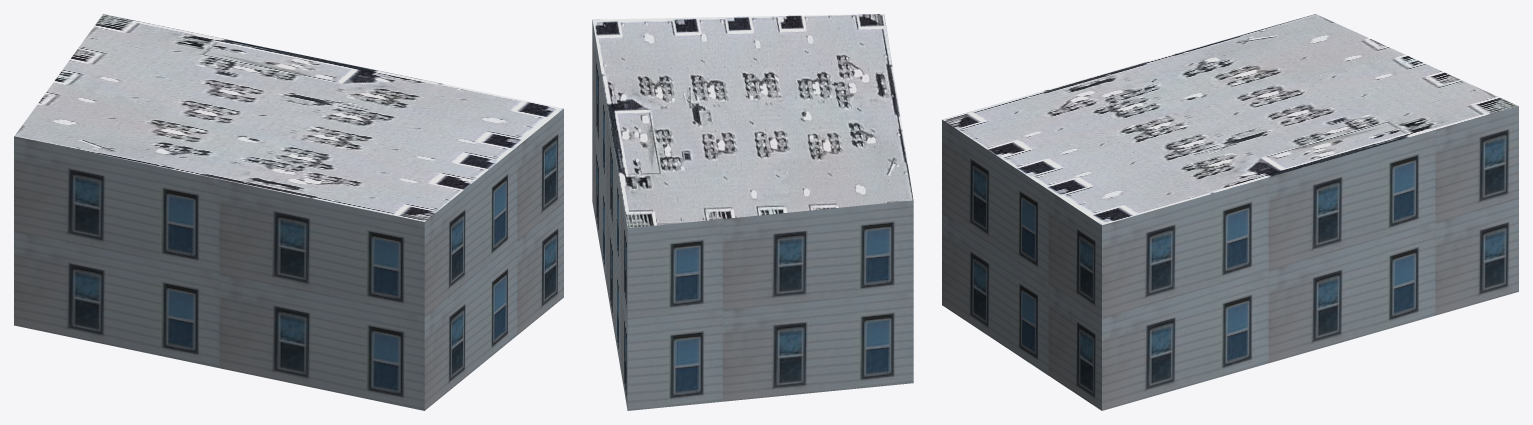
The model's file is ResTex__2485.fbx.
3 renders of one model, left to right at view 1: azimuth 30°, elevation 25°; view 2: azimuth 150°, elevation 25°; view 3: azimuth 270°, elevation 25°, orthographic. The views are drawn at different scales.
Parts seen in each view (by area): view 1: CityEngineMaterial_18_m, CityEngineMaterial_2_m; view 2: CityEngineMaterial_18_m, CityEngineMaterial_2_m; view 3: CityEngineMaterial_18_m, CityEngineMaterial_2_m.
Part boxes in pixels (box(x1,y1,x2,y2)): CityEngineMaterial_18_m: box(14, 109, 563, 410); CityEngineMaterial_2_m: box(14, 14, 563, 221); CityEngineMaterial_18_m: box(592, 20, 913, 410); CityEngineMaterial_2_m: box(592, 14, 913, 228); CityEngineMaterial_18_m: box(942, 106, 1518, 410); CityEngineMaterial_2_m: box(942, 14, 1518, 225).
Size of the model in its own units: 14.65 by 6 by 16.9.
2 materials, 2 textured.
